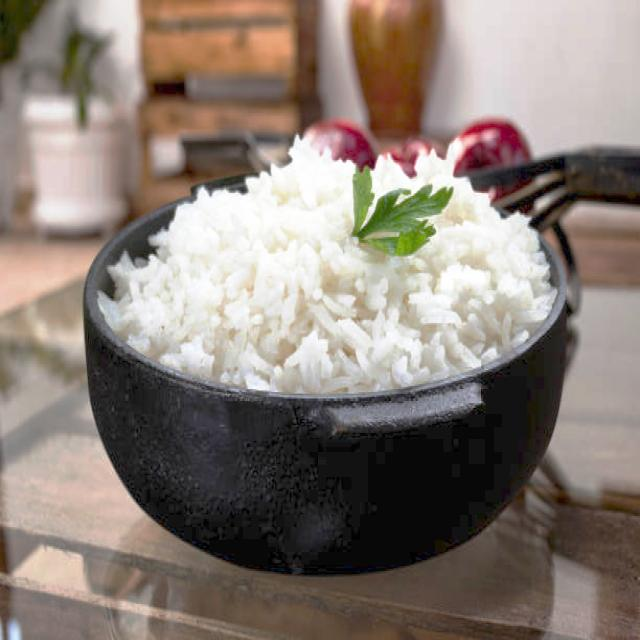rice: (98, 133, 560, 394)
